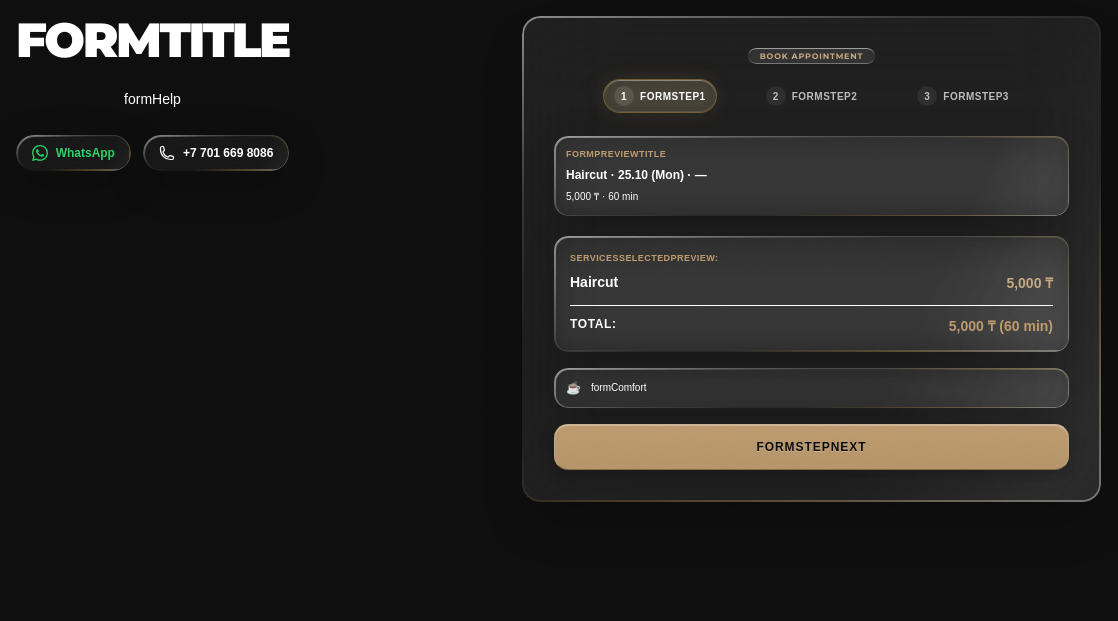
Test: BookingForm › filters time slots when period filter buttons are clicked on step 2
Click the button "formStepNext": coordinates (812, 447) [554,424,1069,470]
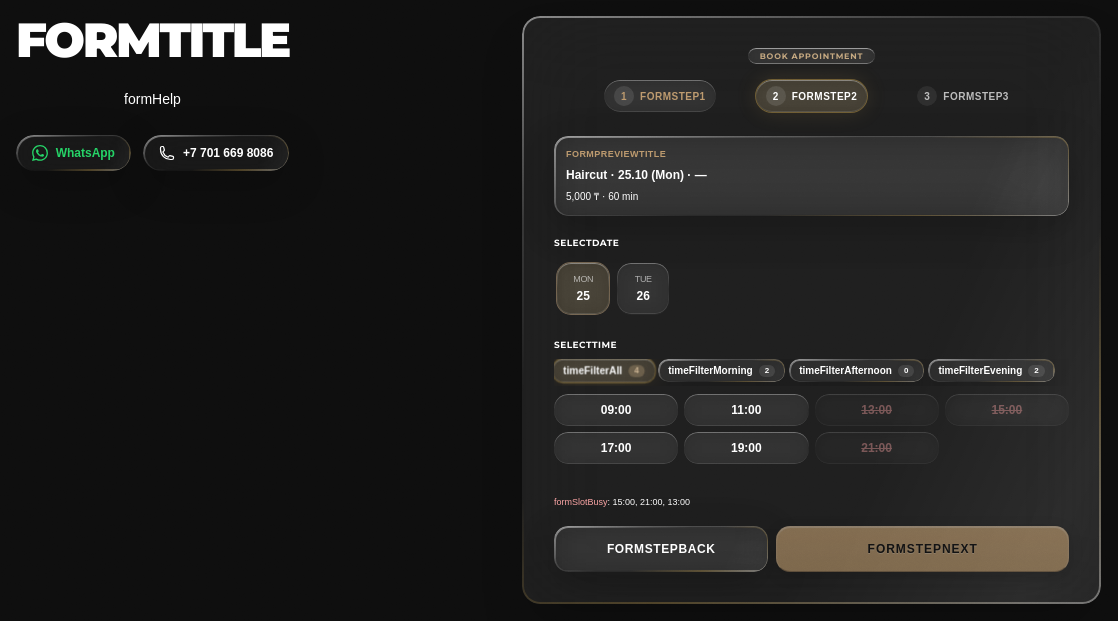
Morning filter click
Click the text "timeFilterMorning": coordinates (711, 371) [668,363,753,378]
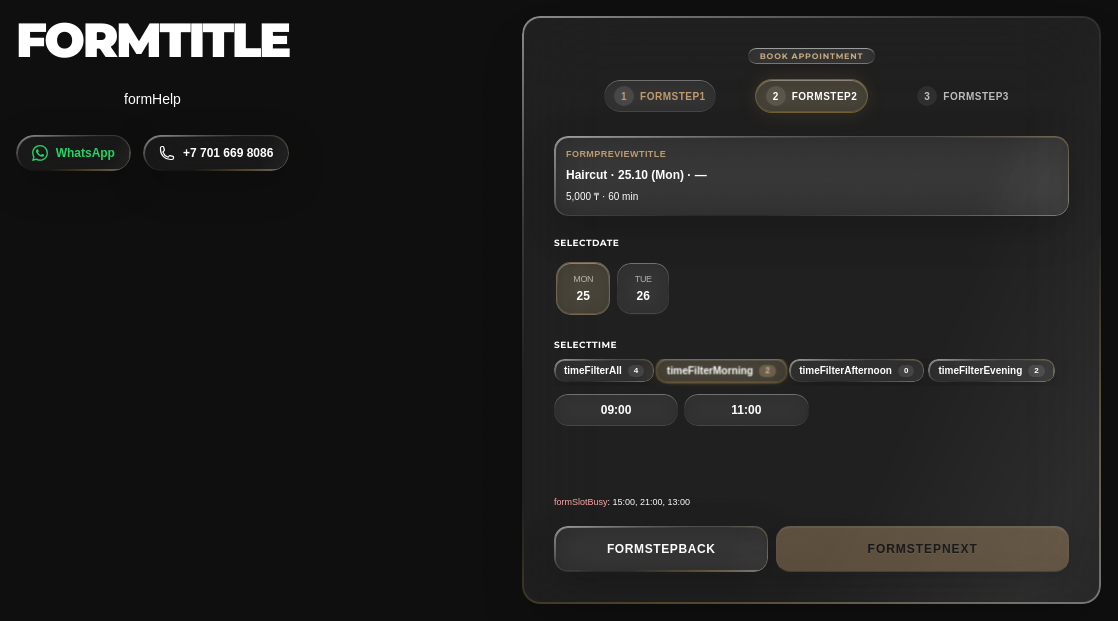
Now the button "09:00" is shown, box [554,394,678,426]
Now the button "11:00" is shown, box [684,394,809,426]
Now the button "19:00" is gone
Evening filter click
Click the text "timeFilterEvening": coordinates (980, 371) [938,363,1022,378]
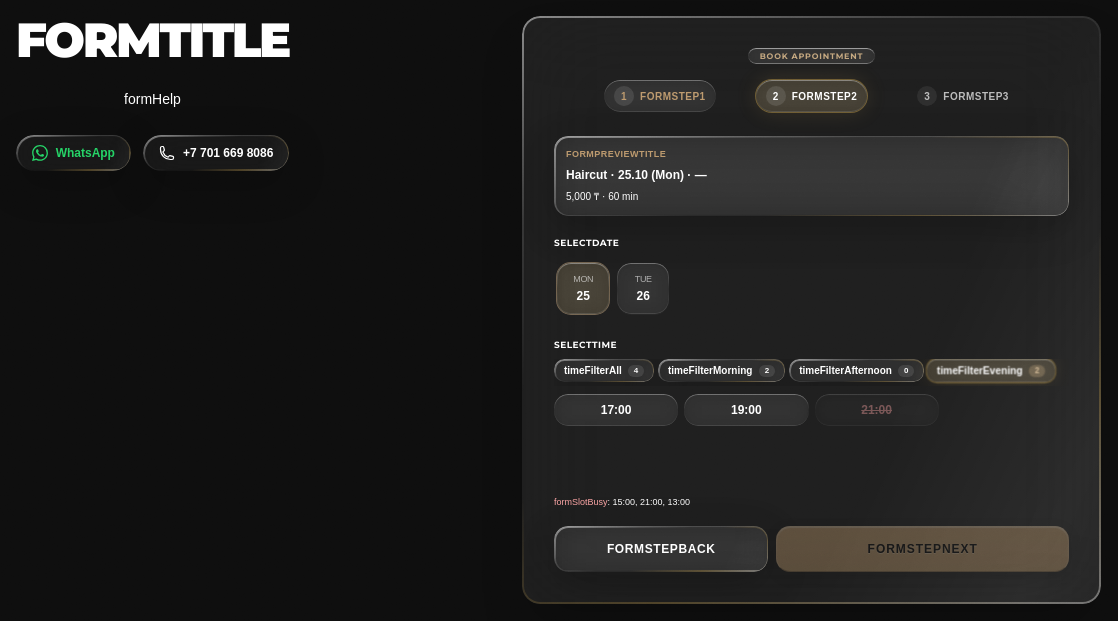
Now the button "17:00" is shown, box [554,394,678,426]
Now the button "19:00" is shown, box [684,394,809,426]
Now the button "09:00" is gone
